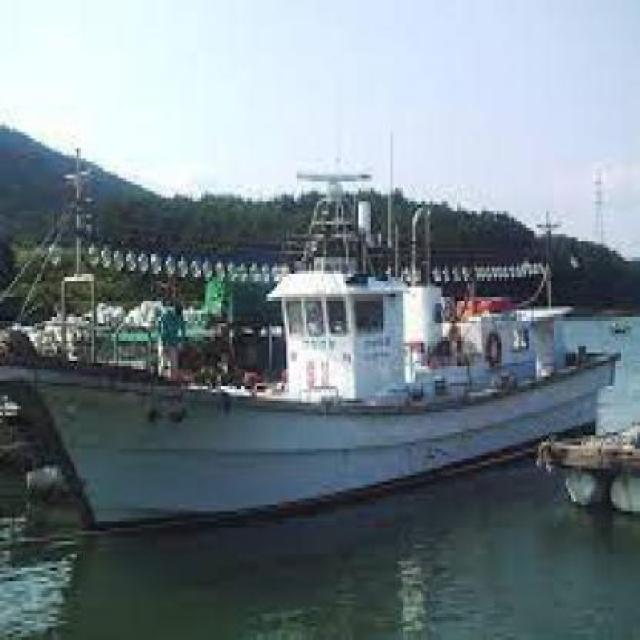fish-b: (1, 146, 624, 546)
